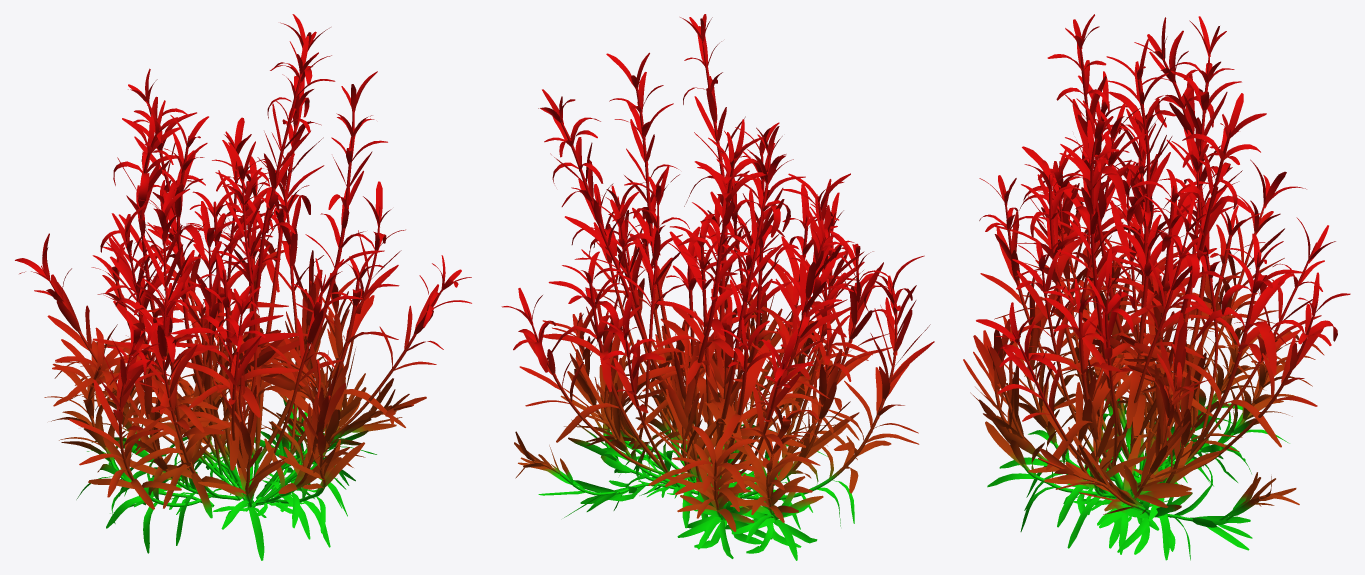
Rendered from Var1_LOD0.fbx.
3 views of the same model, side by side, from view 1: azimuth 30°, elevation 25°; view 2: azimuth 150°, elevation 25°; view 3: azimuth 270°, elevation 25° (orthographic). The views are drawn at different scales.
Parts seen in each view (by area): view 1: _upg3_Var1_LOD0; view 2: _upg3_Var1_LOD0; view 3: _upg3_Var1_LOD0.
Part boxes in pixels (left/top/right/bottom): _upg3_Var1_LOD0: left=15, top=14, right=471, bottom=560; _upg3_Var1_LOD0: left=501, top=14, right=934, bottom=560; _upg3_Var1_LOD0: left=963, top=14, right=1350, bottom=560.
Bounding box in the file's own units: 31.91 × 41.85 × 28.42.
